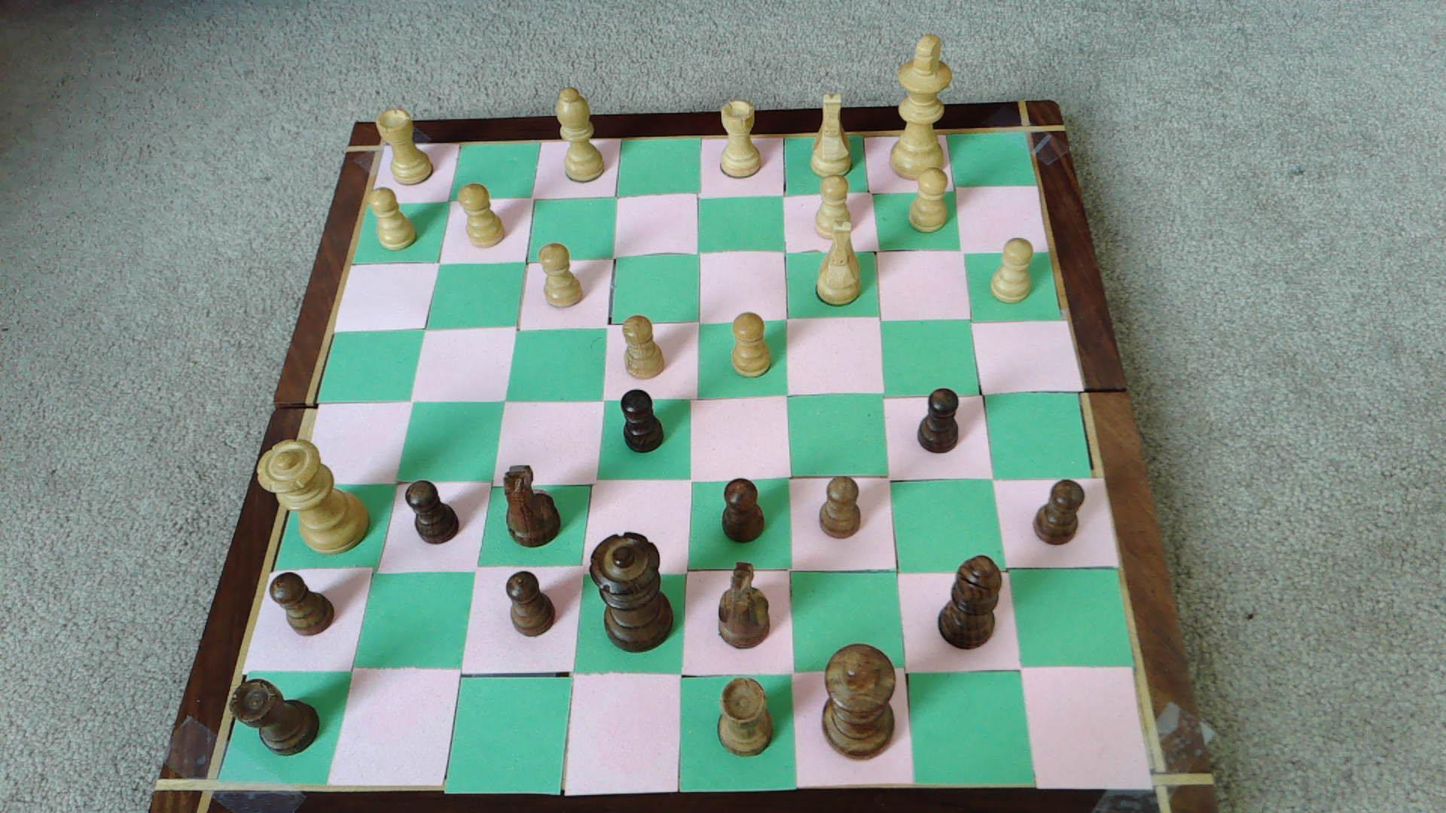dark_piece: (590, 533, 672, 651), (823, 644, 895, 757), (232, 679, 319, 754), (938, 555, 1002, 649), (503, 465, 560, 547), (718, 562, 770, 648), (718, 676, 773, 755), (270, 573, 334, 634), (406, 481, 459, 543), (1033, 480, 1084, 544), (506, 571, 554, 635), (917, 387, 959, 452), (621, 389, 664, 452), (722, 478, 764, 542), (819, 477, 861, 537)
white_piece: (258, 440, 368, 551), (889, 33, 954, 180), (555, 87, 605, 182), (377, 108, 435, 185), (809, 94, 853, 178), (719, 99, 763, 178), (816, 230, 861, 305), (458, 183, 506, 247), (369, 188, 417, 250), (990, 237, 1034, 303), (540, 242, 584, 307), (622, 315, 665, 379), (731, 312, 771, 377), (908, 169, 949, 232), (814, 176, 853, 239)
